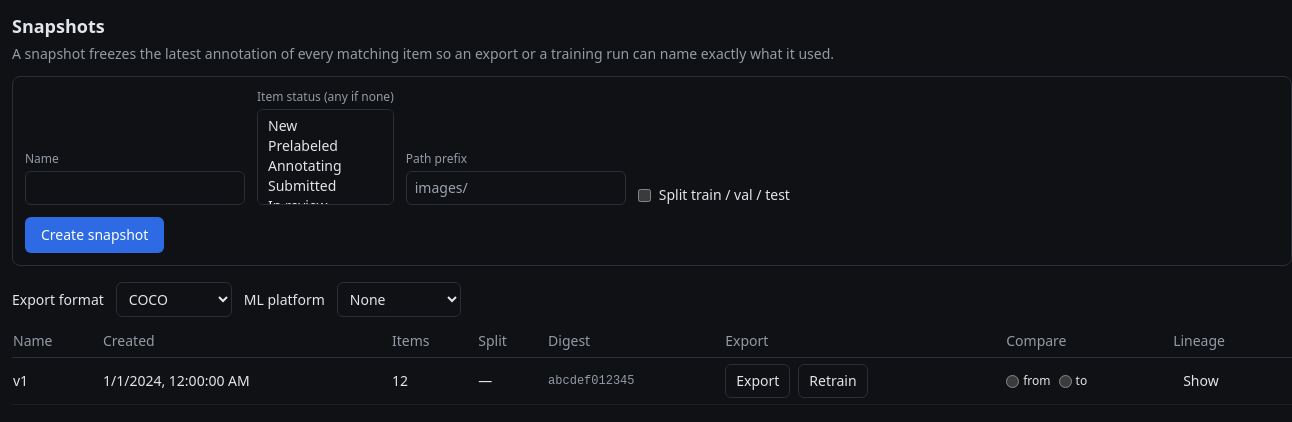
Test: SnapshotsPanel › publishes a snapshot to the chosen ML platform and links the run
Expected: the button "Publish" is not shown
Select "Local MLflow" in the dropdown labelled "ML platform": (399, 300) left=337, top=282, right=461, bottom=317
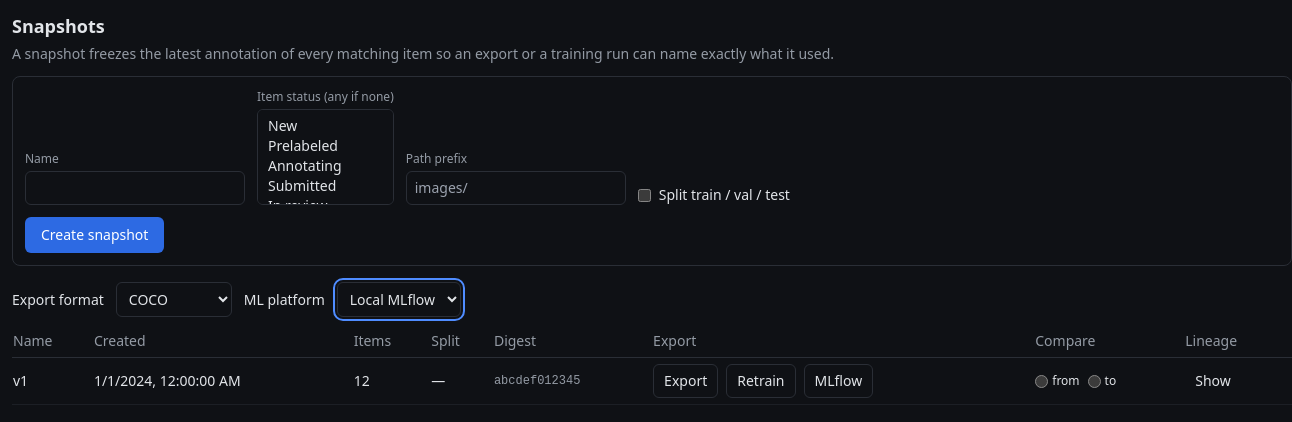
Click the button with aria-label "Publish v1 to Local MLflow": (838, 381) left=804, top=364, right=873, bottom=398
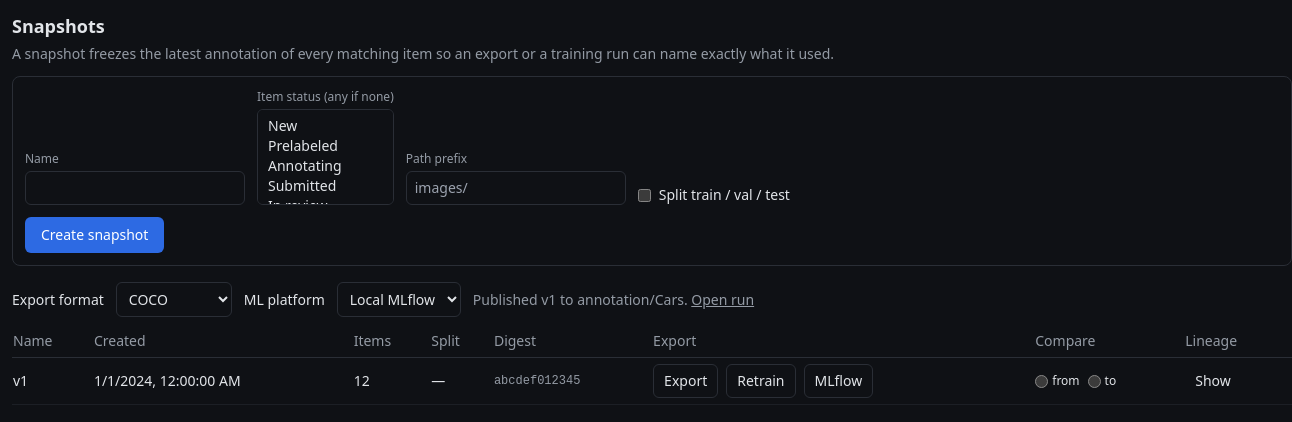
Expected: the message shows "Published v1 to annotation/Cars.", left=473, top=290, right=688, bottom=308
